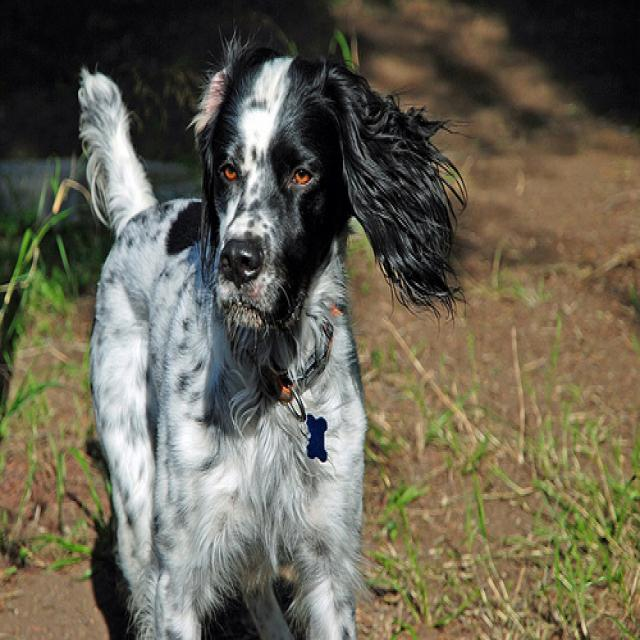dog-english_setter: (72, 18, 475, 636)
